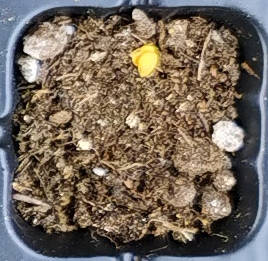pepper seed: (57, 11, 217, 91), (48, 10, 208, 79)
